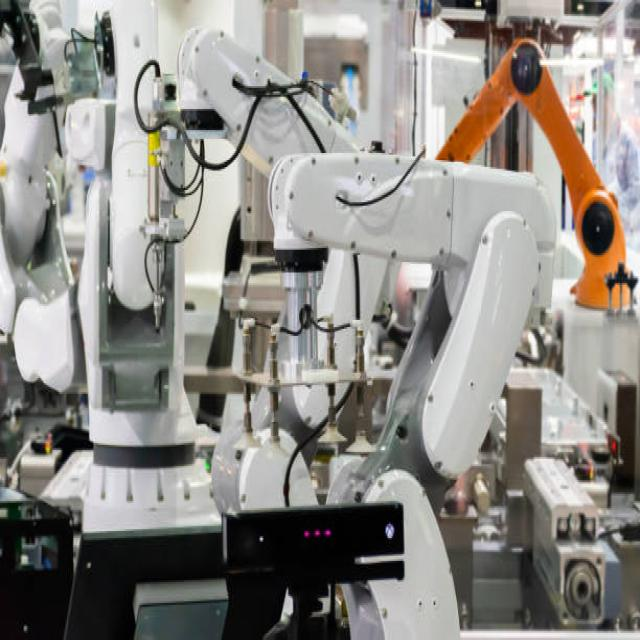Robotic-arm: (270, 141, 556, 523), (441, 35, 633, 314), (176, 22, 360, 212)
